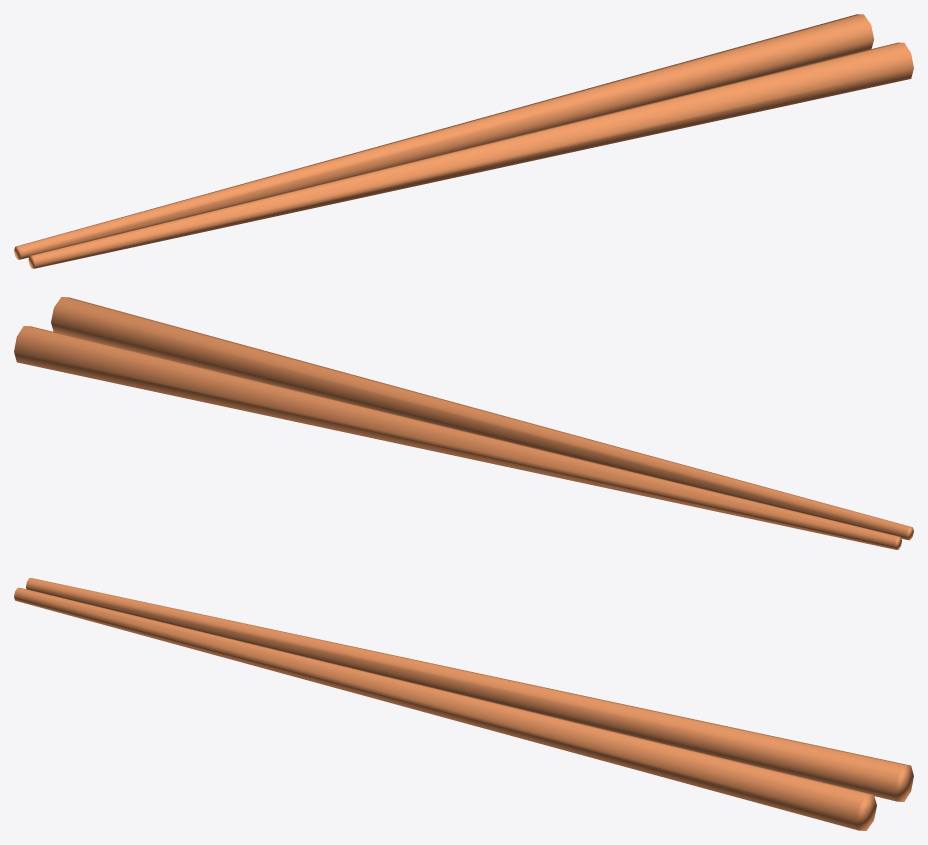
The model's file is SM_Sticks.fbx.
The picture shows the model from 3 angles, top to bottom: view 1: azimuth 30°, elevation 25°; view 2: azimuth 150°, elevation 25°; view 3: azimuth 330°, elevation 25°; orthographic projection.
Visible parts, largest first — view 1: SM_Sticks; view 2: SM_Sticks; view 3: SM_Sticks.
Boxes of the visible parts, x1,y1,x2,y2 form: SM_Sticks: [14, 14, 913, 268]; SM_Sticks: [14, 297, 913, 549]; SM_Sticks: [14, 578, 913, 830].
Size of the model in its own units: 28.02 by 3.34 by 1.13.
